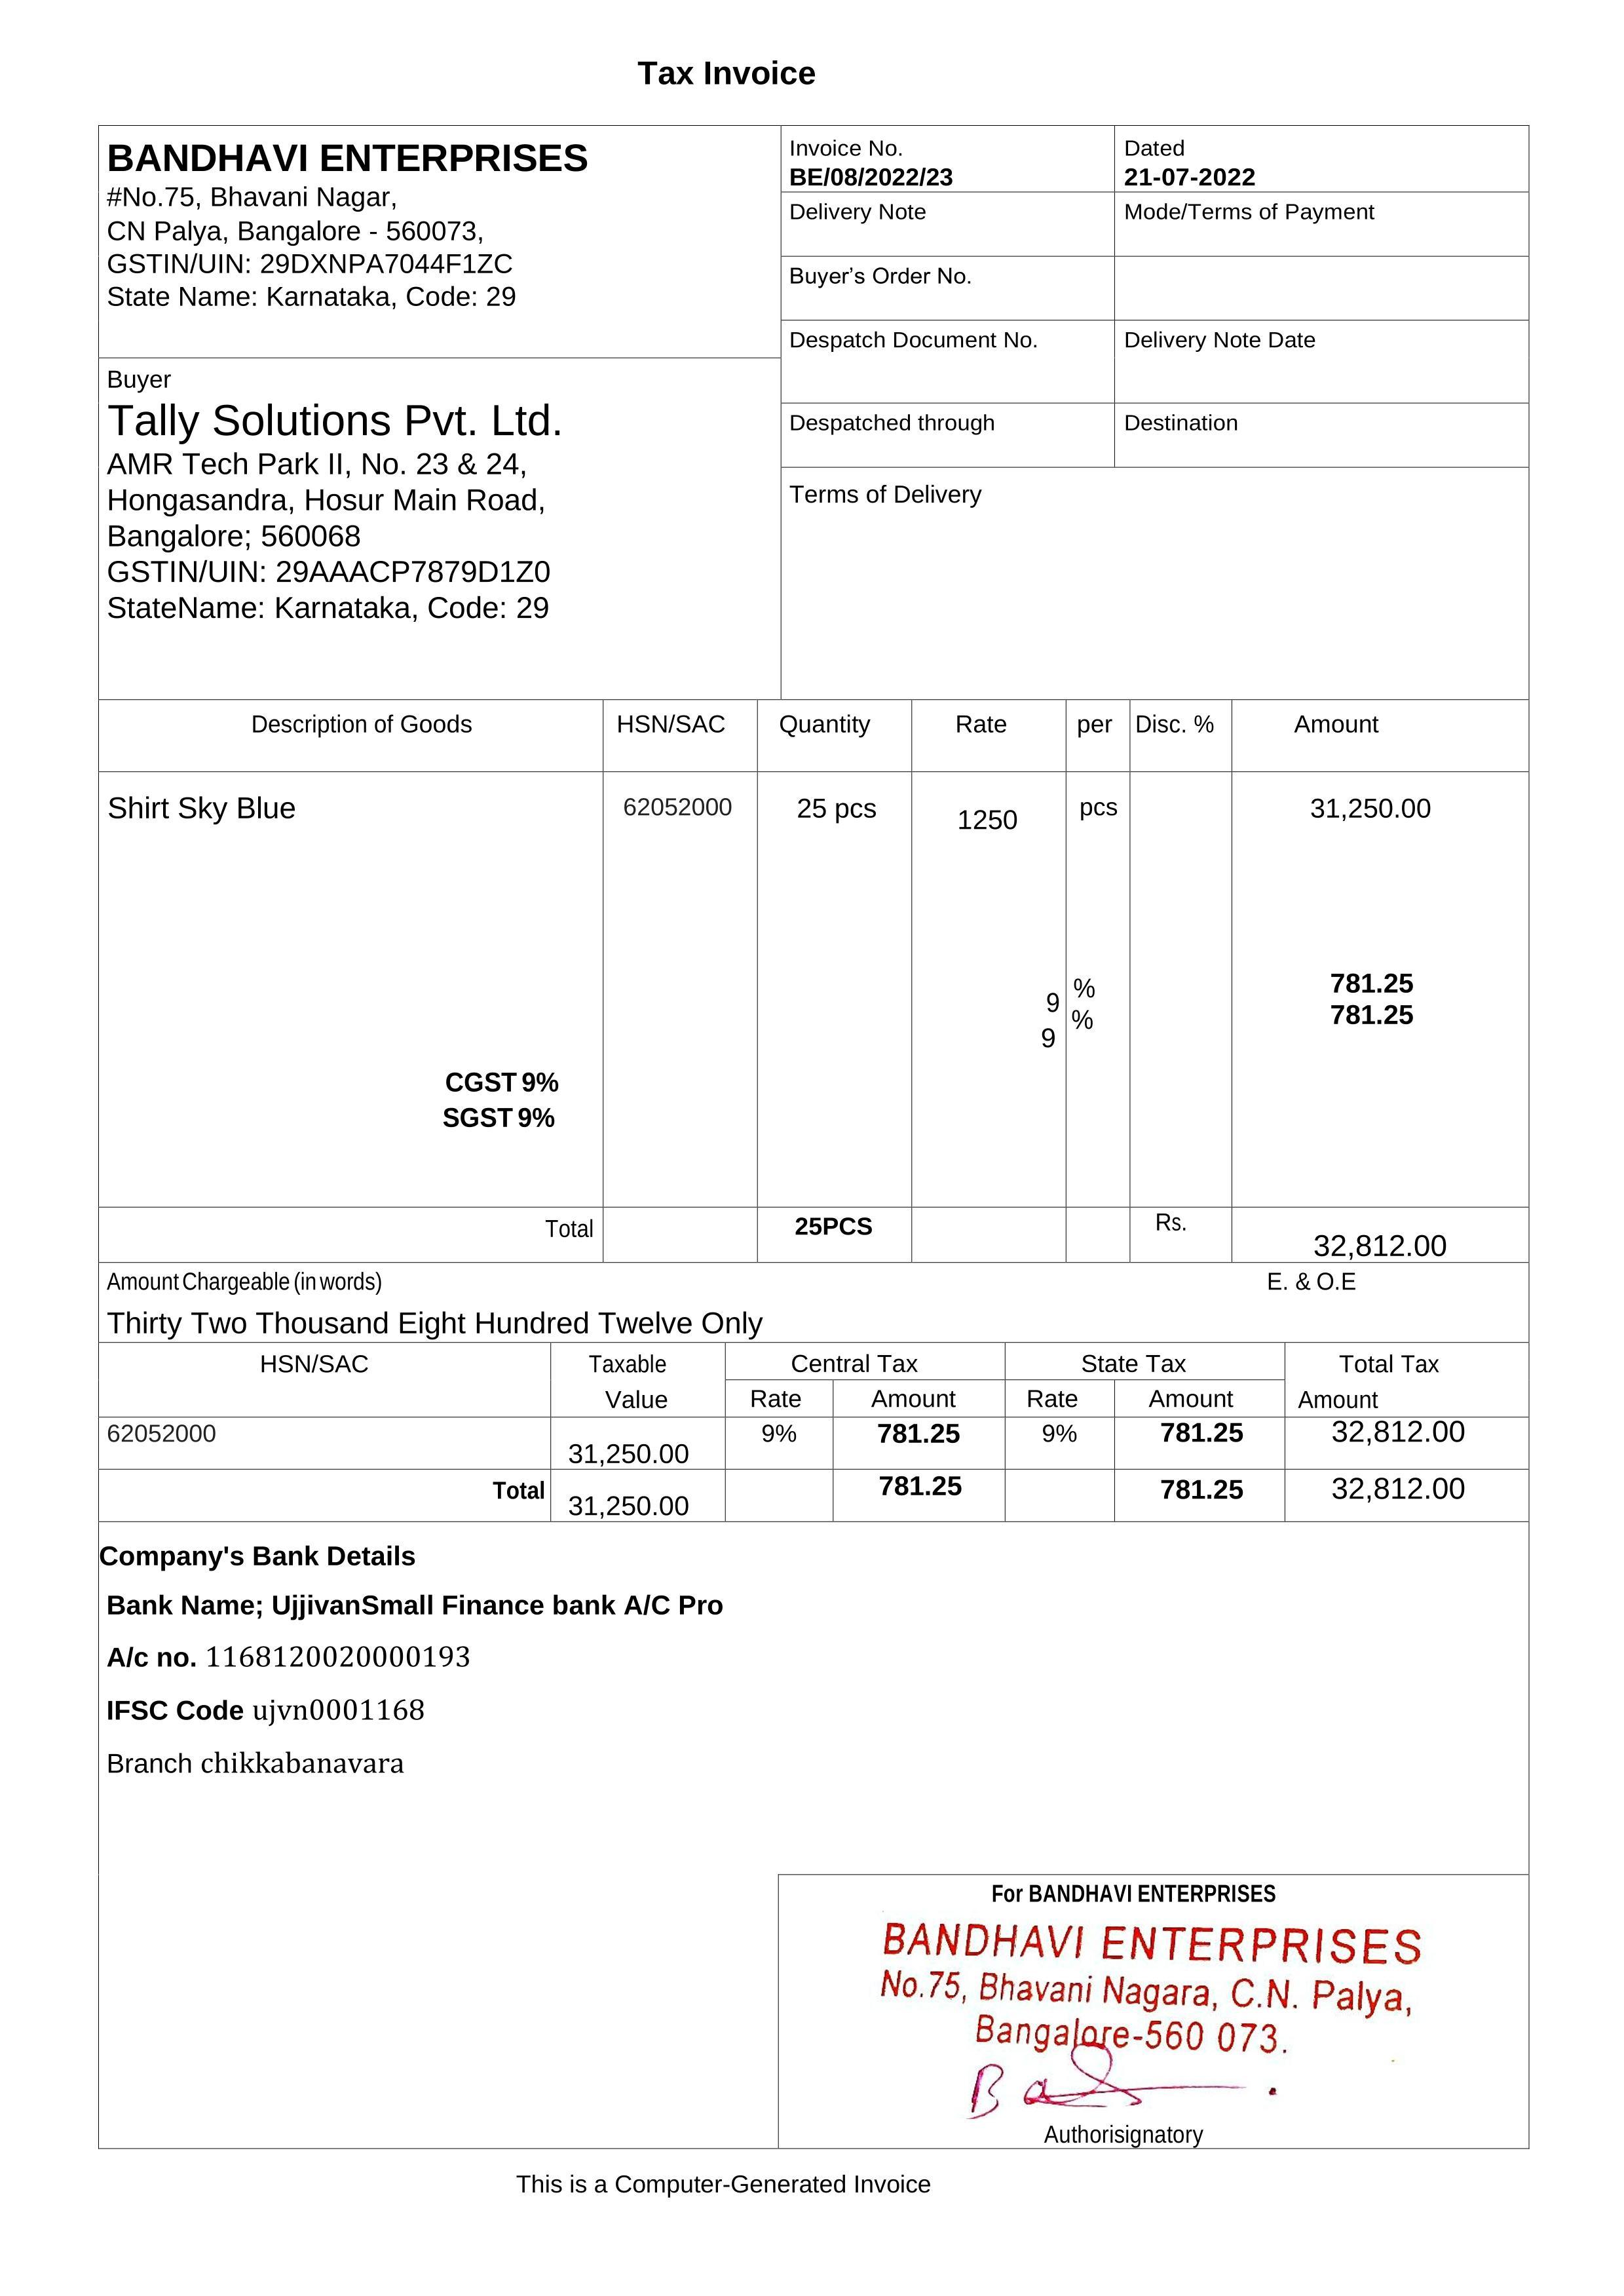InvoiceDate: (1118, 162, 1260, 190)
InvoiceNumber: (786, 156, 965, 197)
TotalAmount: (1322, 1471, 1473, 1507)
